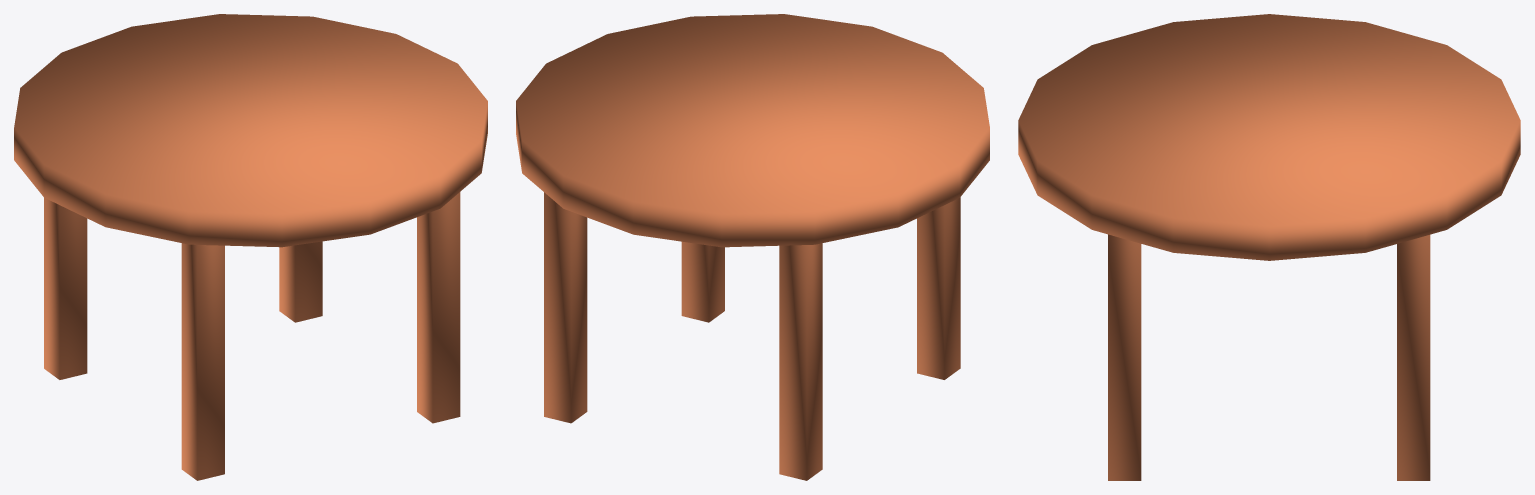
The model's file is table.glb.
3 views of the same model, side by side, from view 1: azimuth 30°, elevation 25°; view 2: azimuth 150°, elevation 25°; view 3: azimuth 270°, elevation 25° (orthographic). The views are drawn at different scales.
Parts seen in each view (by area): view 1: Cylinder, Cube; view 2: Cylinder, Cube; view 3: Cylinder, Cube.
Boxes of the visible parts, box(x1,y1,x2,y2) form: Cylinder: box(14, 14, 487, 247); Cube: box(44, 192, 460, 480); Cylinder: box(516, 14, 989, 247); Cube: box(544, 192, 960, 480); Cylinder: box(1018, 14, 1520, 260); Cube: box(1108, 234, 1430, 480).
Size of the model in its own units: 2 by 1.29 by 2.
